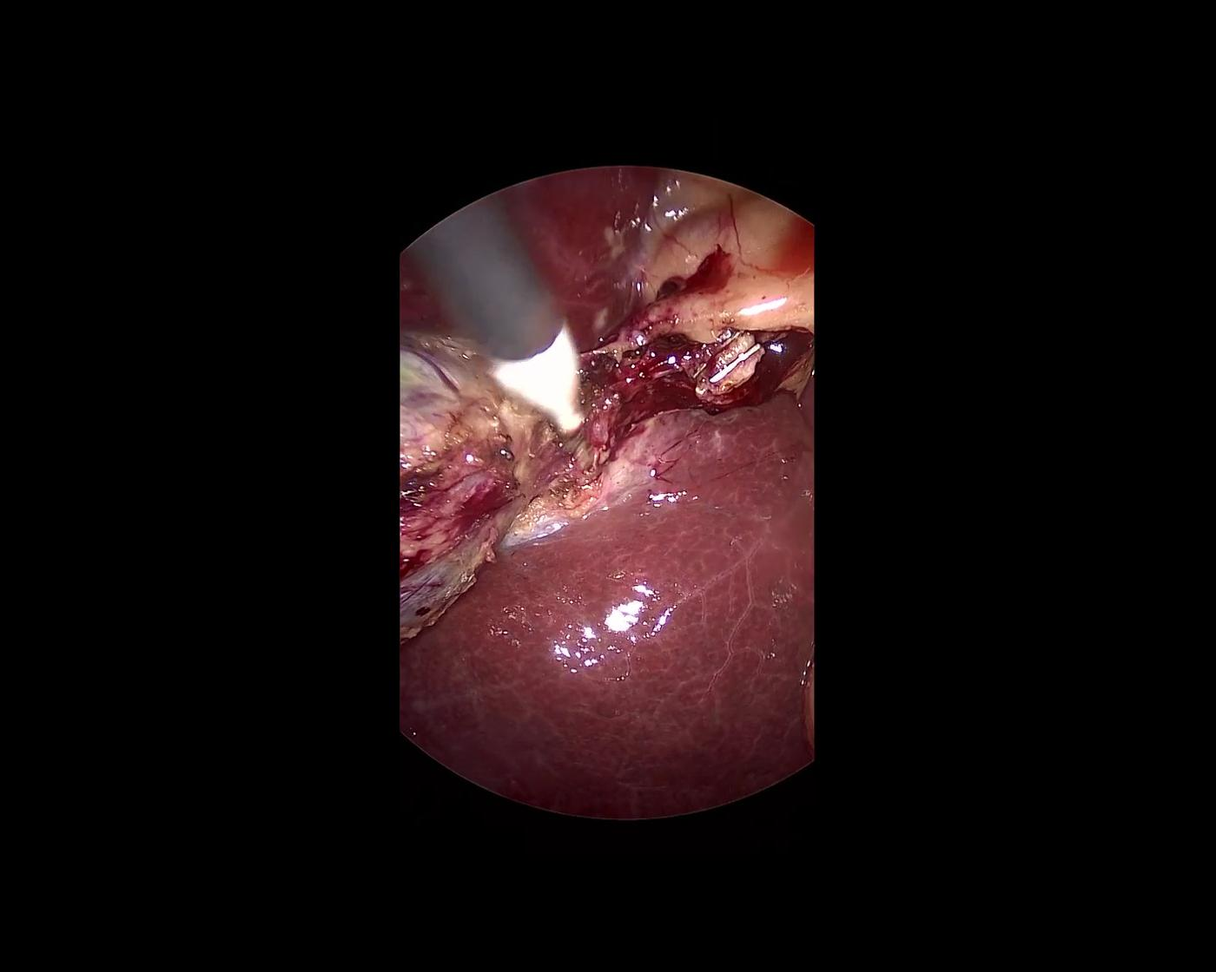Cautery: (398, 189, 629, 502)
Gallbladder: (401, 336, 565, 637)
Liver: (403, 379, 813, 816), (396, 149, 656, 356)
